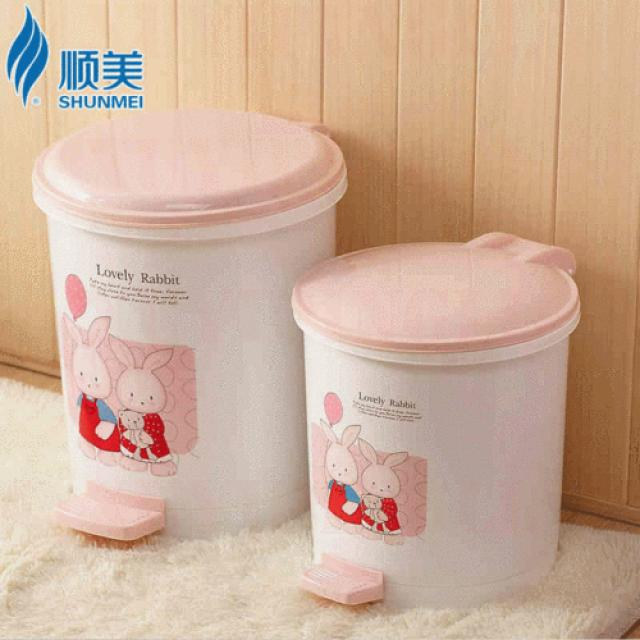dustbin: (29, 97, 352, 552), (288, 228, 592, 623)
